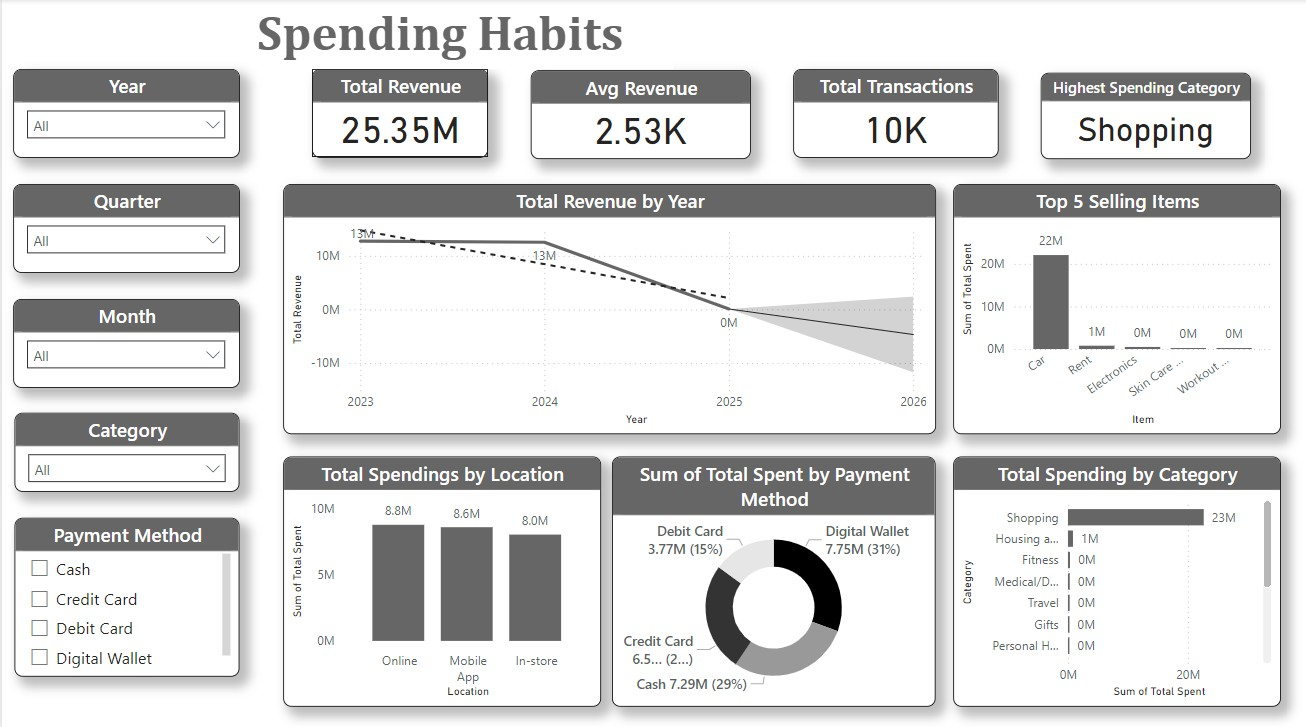

This screenshot's page, from the dashboard's own definition file:
{"tool":"powerbi","page":{"name":"Overall Dashboard","canvas":[1280,720],"ordinal":0},"visuals":[{"type":"slicer","title":"Year","fields":{"Values":["spending_patterns_detailed.Transaction Date.Variation.Date Hierarchy.Year"]},"box":[11,68.7,222.1,87.1],"z":0},{"type":"barChart","title":"Total Spending by Category","fields":{"Y":["Sum(spending_patterns_detailed.Total Spent)"],"Category":["spending_patterns_detailed.Category"]},"box":[933.7,449.1,321.5,245.4],"z":1000},{"type":"clusteredColumnChart","title":"Top 5 Selling Items","fields":{"Category":["spending_patterns_detailed.Item"],"Y":["Sum(spending_patterns_detailed.Total Spent)"]},"box":[933.7,181.6,321.5,245.4],"z":2000},{"type":"slicer","title":"Category","fields":{"Values":["spending_patterns_detailed.Category"]},"box":[12.3,406.4,220.9,77.3],"z":3000},{"type":"slicer","title":"Payment Method","fields":{"Values":["spending_patterns_detailed.Payment Method"]},"box":[12.3,509.2,220.9,155.8],"z":4000},{"type":"card","title":"Total Revenue","fields":{"Values":["spending_patterns_detailed.Total Revenue"]},"box":[304.3,68.7,173,87.1],"z":5000},{"type":"card","title":"Avg Revenue","fields":{"Values":["spending_patterns_detailed.Avg Spending per Transaction"]},"box":[519,69.9,216,87.1],"z":6000},{"type":"textbox","box":[245.4,0,413.5,68.7],"z":7000},{"type":"clusteredColumnChart","title":"Total Spendings by Location","fields":{"Category":["spending_patterns_detailed.Location"],"Y":["Sum(spending_patterns_detailed.Total Spent)"]},"box":[276.1,449.1,311.7,245.4],"z":8000},{"type":"card","title":"Total Transactions","fields":{"Values":["spending_patterns_detailed.total transactions"]},"box":[776.7,68.7,201.2,87.1],"z":9000},{"type":"slicer","title":"Quarter","fields":{"Values":["spending_patterns_detailed.Transaction Date.Variation.Date Hierarchy.Quarter"]},"box":[11,181.3,222.1,87.1],"z":10000},{"type":"slicer","title":"Month","fields":{"Values":["spending_patterns_detailed.Transaction Date.Variation.Date Hierarchy.Month"]},"box":[11,293.9,222.1,87.1],"z":11000},{"type":"card","title":"Highest Spending Category","fields":{"Values":["spending_patterns_detailed.Highest Spending Category"]},"box":[1019.6,72.4,206.1,84.7],"z":12000},{"type":"lineChart","fields":{"Category":["spending_patterns_detailed.Transaction Date.Variation.Date Hierarchy.Year","spending_patterns_detailed.Transaction Date.Variation.Date Hierarchy.Month","spending_patterns_detailed.Transaction Date.Variation.Date Hierarchy.Day"],"Y":["spending_patterns_detailed.Total Revenue"]},"box":[276.1,181.6,640.5,245.4],"z":13000},{"type":"donutChart","fields":{"Category":["spending_patterns_detailed.Payment Method"],"Y":["Sum(spending_patterns_detailed.Total Spent)"]},"box":[598.8,449.1,317.8,245.4],"z":14000},{"type":"actionButton","box":[1094.5,13.5,62.6,40.5],"z":15000},{"type":"actionButton","box":[1169.3,13.5,56.4,40.5],"z":16000}]}

Visuals, with their boxes in screenshot pixels (x1, y1, x2, y2), scaled from the page's 1280x720 canvas onto the 1306x727 screenshot:
"Year" slicer: (left=11, top=69, right=238, bottom=157)
"Total Spending by Category" barChart: (left=953, top=453, right=1281, bottom=701)
"Top 5 Selling Items" clusteredColumnChart: (left=953, top=183, right=1281, bottom=431)
"Category" slicer: (left=13, top=410, right=238, bottom=488)
"Payment Method" slicer: (left=13, top=514, right=238, bottom=671)
"Total Revenue" card: (left=310, top=69, right=487, bottom=157)
"Avg Revenue" card: (left=530, top=71, right=750, bottom=159)
textbox: (left=250, top=0, right=672, bottom=69)
"Total Spendings by Location" clusteredColumnChart: (left=282, top=453, right=600, bottom=701)
"Total Transactions" card: (left=792, top=69, right=998, bottom=157)
"Quarter" slicer: (left=11, top=183, right=238, bottom=271)
"Month" slicer: (left=11, top=297, right=238, bottom=385)
"Highest Spending Category" card: (left=1040, top=73, right=1251, bottom=159)
lineChart - spending_patterns_detailed.Transaction Date.Variation.Date Hierarchy.Year x spending_patterns_detailed.Transaction Date.Variation.Date Hierarchy.Month: (left=282, top=183, right=935, bottom=431)
donutChart - spending_patterns_detailed.Payment Method x Sum(spending_patterns_detailed.Total Spent): (left=611, top=453, right=935, bottom=701)
actionButton: (left=1117, top=14, right=1181, bottom=55)
actionButton: (left=1193, top=14, right=1251, bottom=55)
